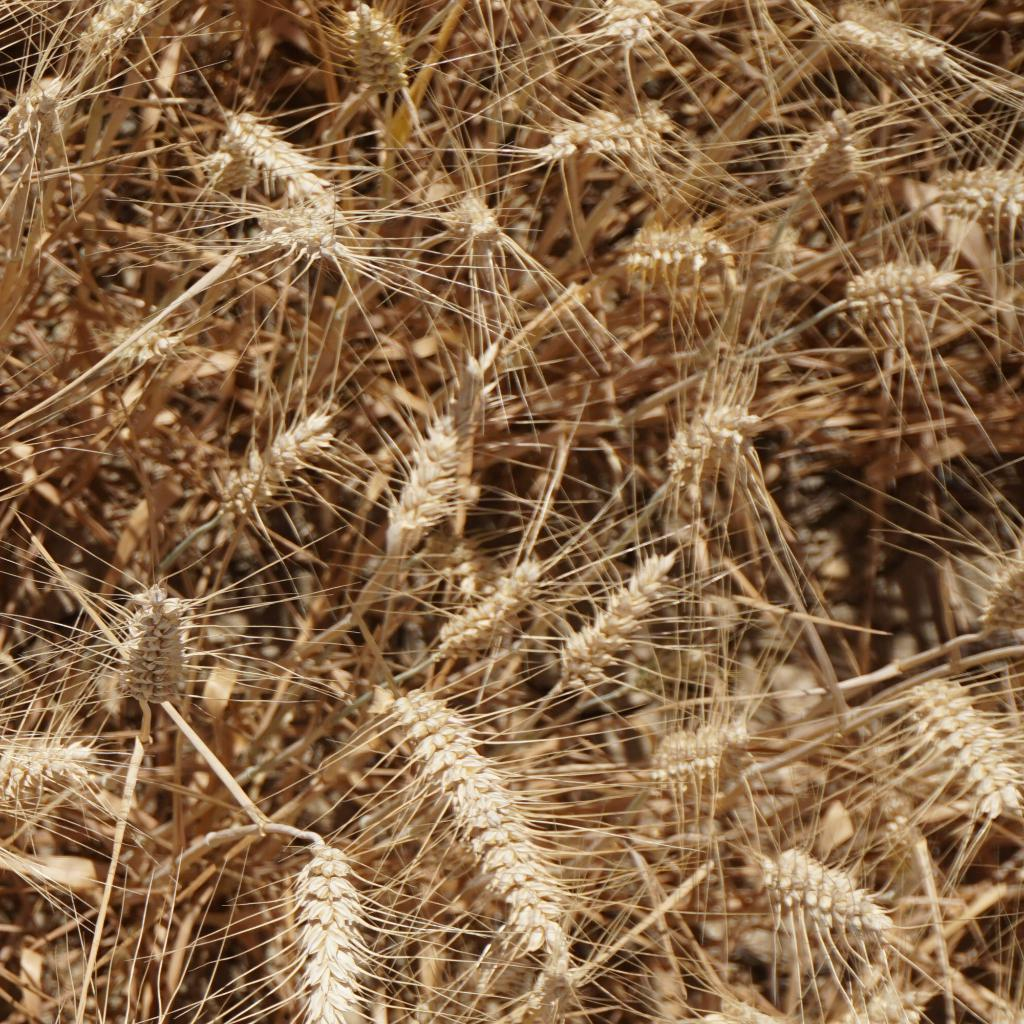0-0: (395, 676, 579, 954), (900, 675, 1024, 815), (752, 840, 888, 954), (359, 415, 466, 541), (563, 564, 687, 668), (297, 853, 367, 1024), (428, 567, 556, 658), (823, 11, 961, 95), (200, 91, 308, 190), (320, 7, 416, 115), (219, 403, 314, 510), (543, 86, 665, 160), (647, 388, 749, 476), (69, 0, 183, 75), (658, 702, 752, 789), (122, 587, 195, 699), (932, 150, 1024, 237), (247, 201, 364, 268), (98, 315, 193, 391), (617, 216, 712, 290), (846, 247, 938, 323), (0, 738, 100, 803), (787, 111, 858, 200), (802, 976, 925, 1024), (453, 180, 517, 268), (1, 69, 64, 156), (991, 535, 1024, 643), (707, 979, 782, 1024), (595, 0, 664, 47), (201, 143, 260, 196)
